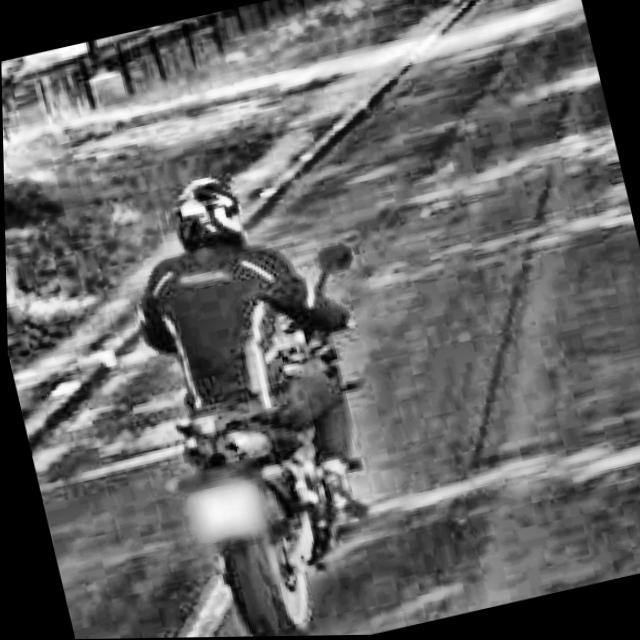motorcycle: (105, 239, 437, 639)
